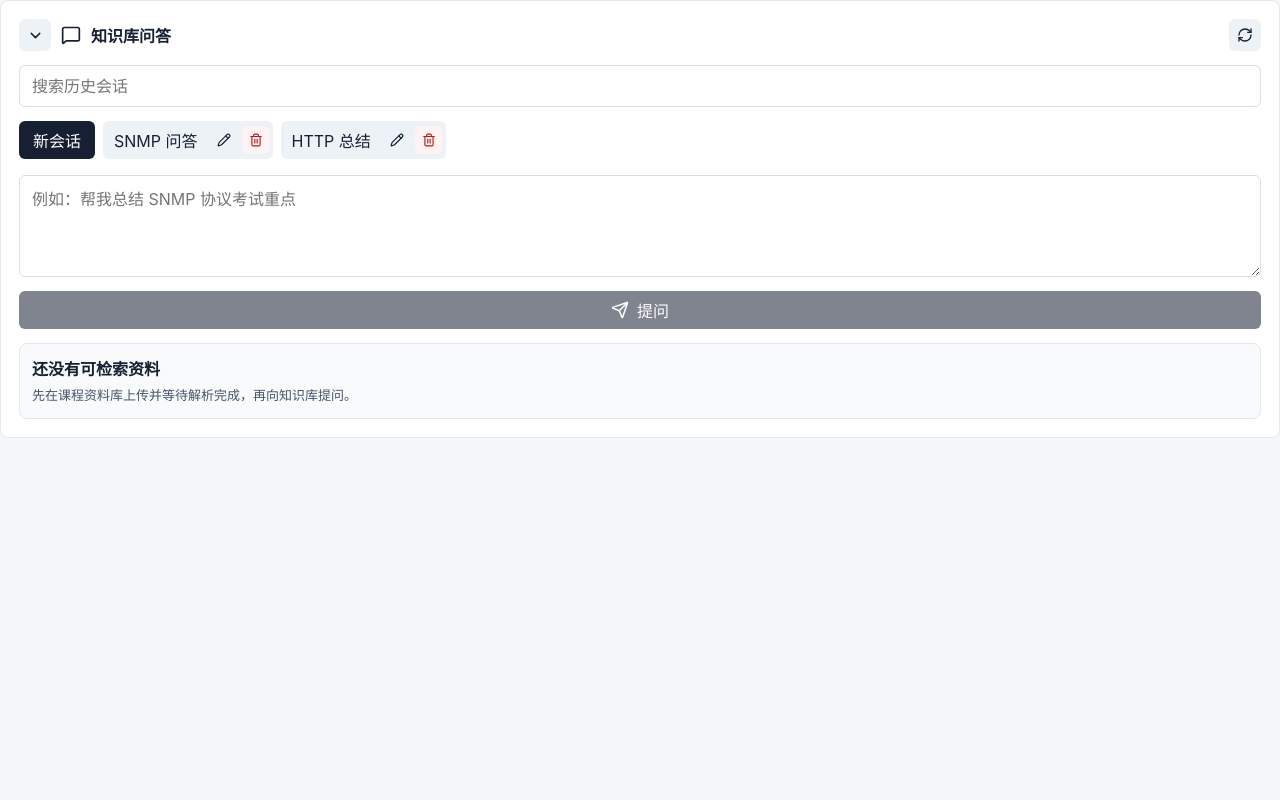
Scenario: ChatPanel › searches, renames, and deletes chat sessions with readable Chinese controls
In the field with placeholder "搜索历史会话": (640,86) [19,65,1261,107], type "SNMP"
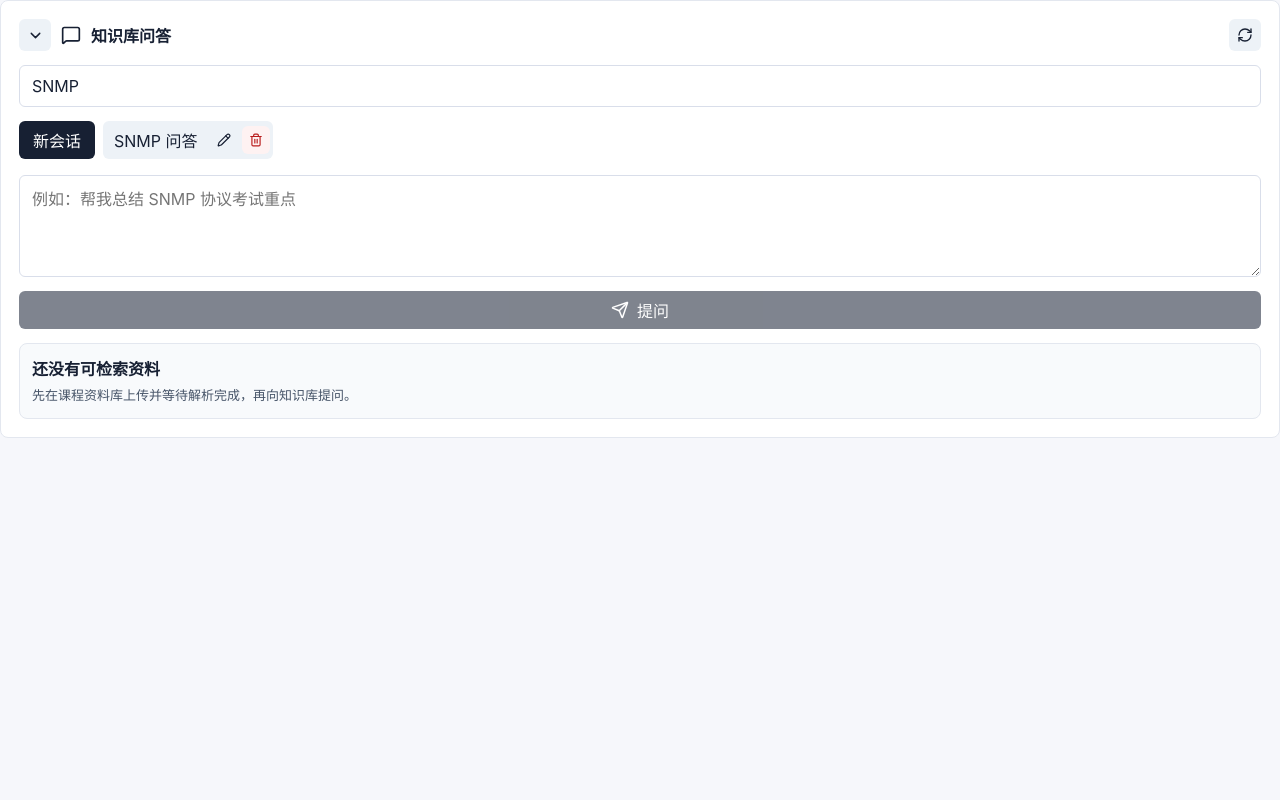
Expected: the text "SNMP 问答" is shown, [106,124,206,156]
Expected: the text "HTTP 总结" is gone
Click the button titled "重命名会话": (224,140) [210,126,238,154]
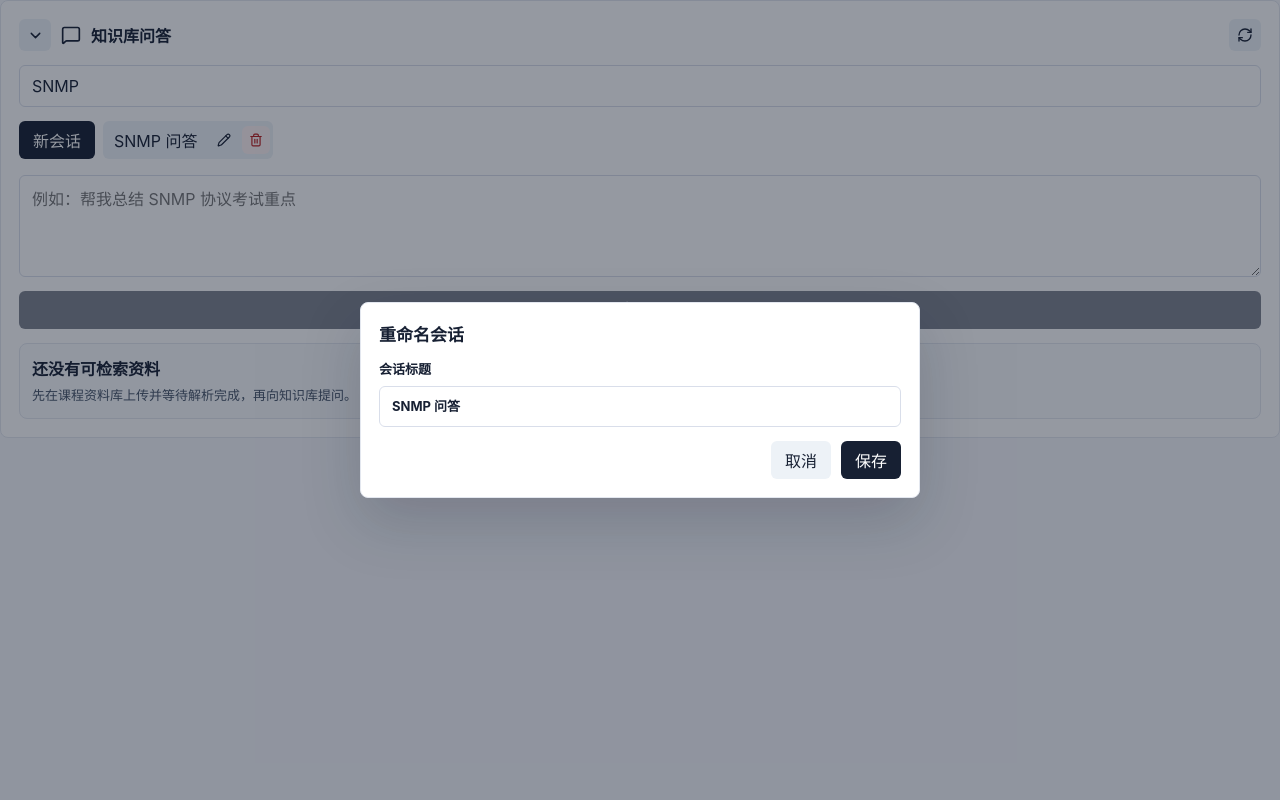
Expected: the text "重命名会话" is shown, [379,325,464,345]
Replace the text in the field with test id "session-title-input" with "期末复习": (640,406) [379,386,901,427]
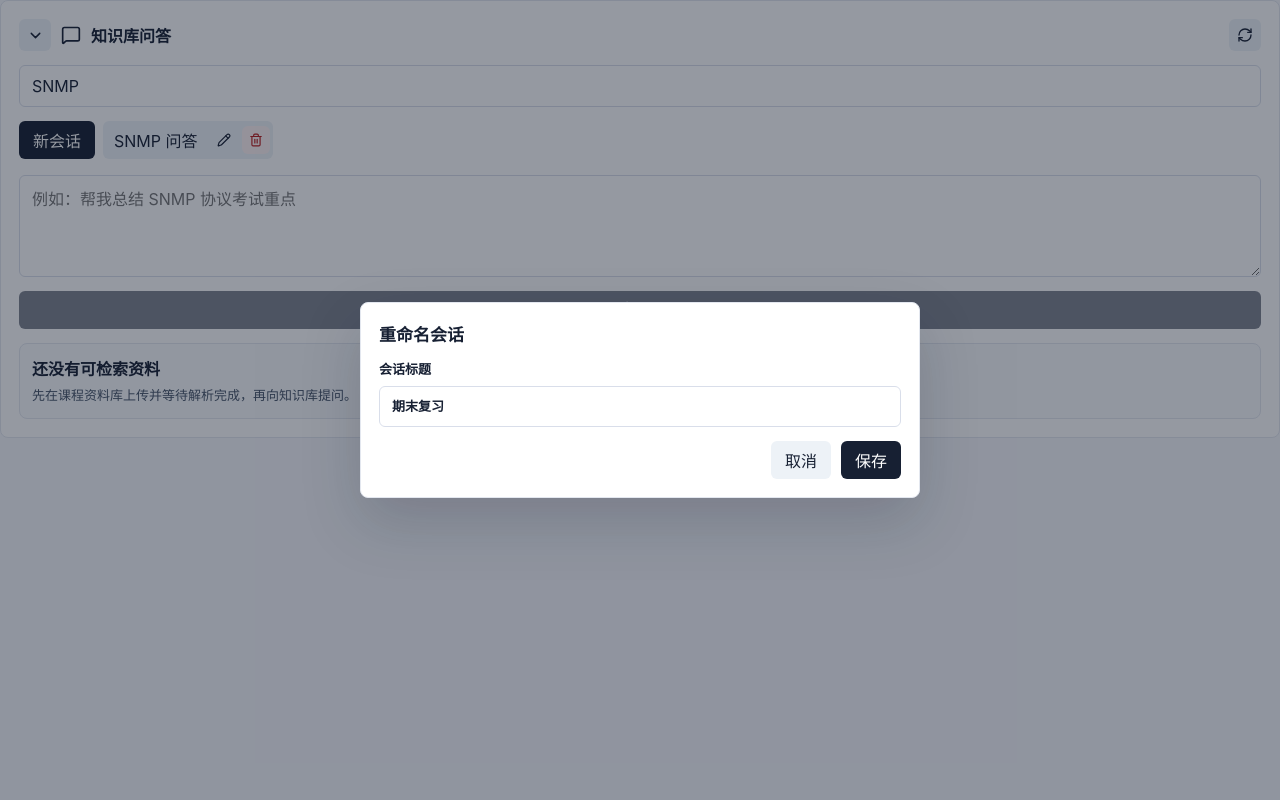
Click the button with test id "modal-confirm": (871,460) [841,441,901,479]
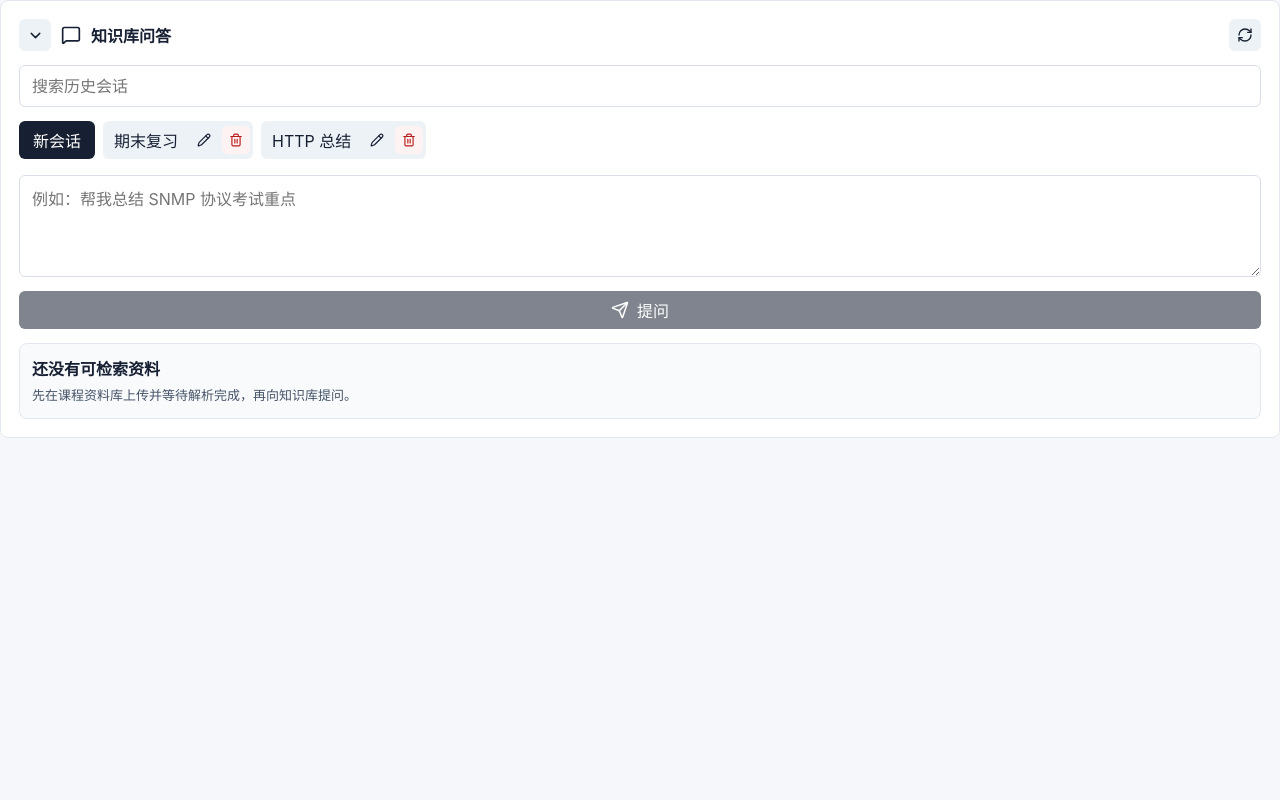
Expected: the text "期末复习" is shown, [106,124,186,156]
Click the 1st button titled "删除会话": (236,140) [222,126,250,154]
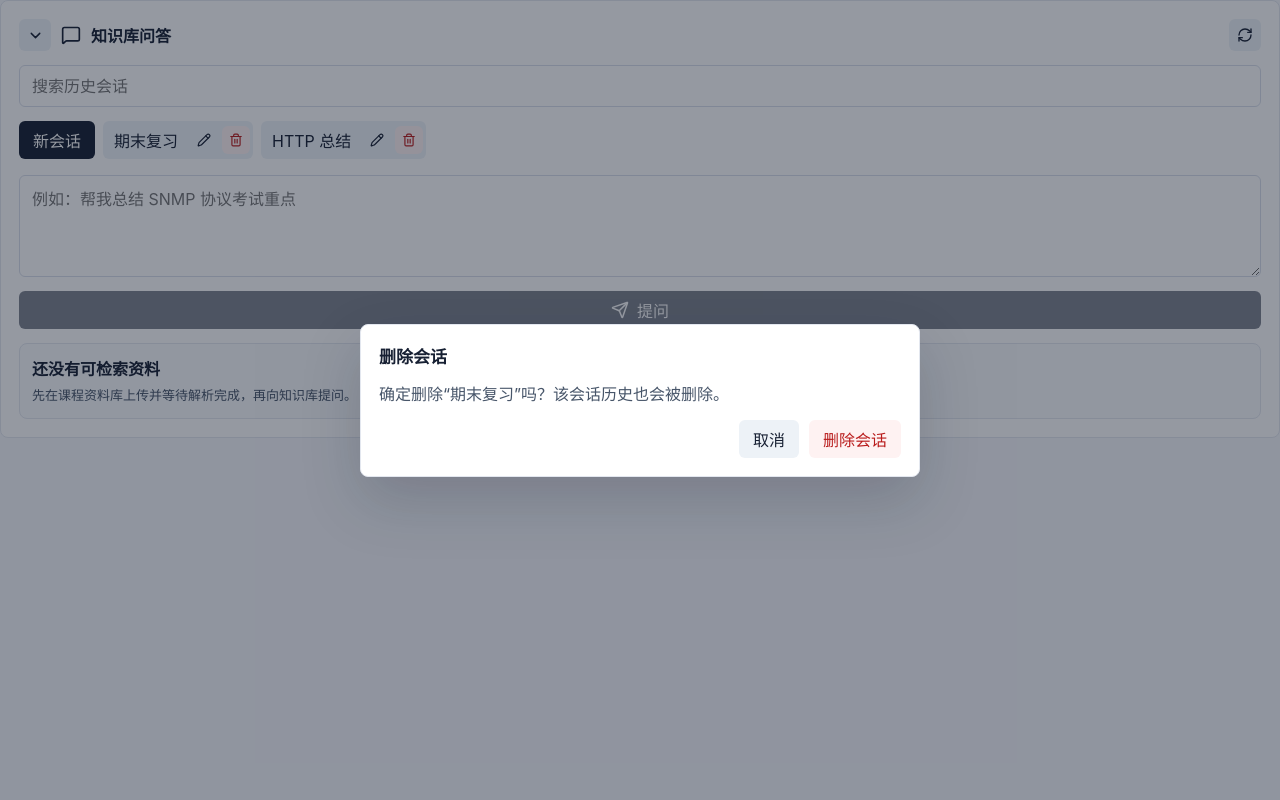
Expected: the text "该会话历史也会被删除" is shown, [379,384,729,404]
Click the button with test id "modal-confirm": (855,438) [809,420,901,458]
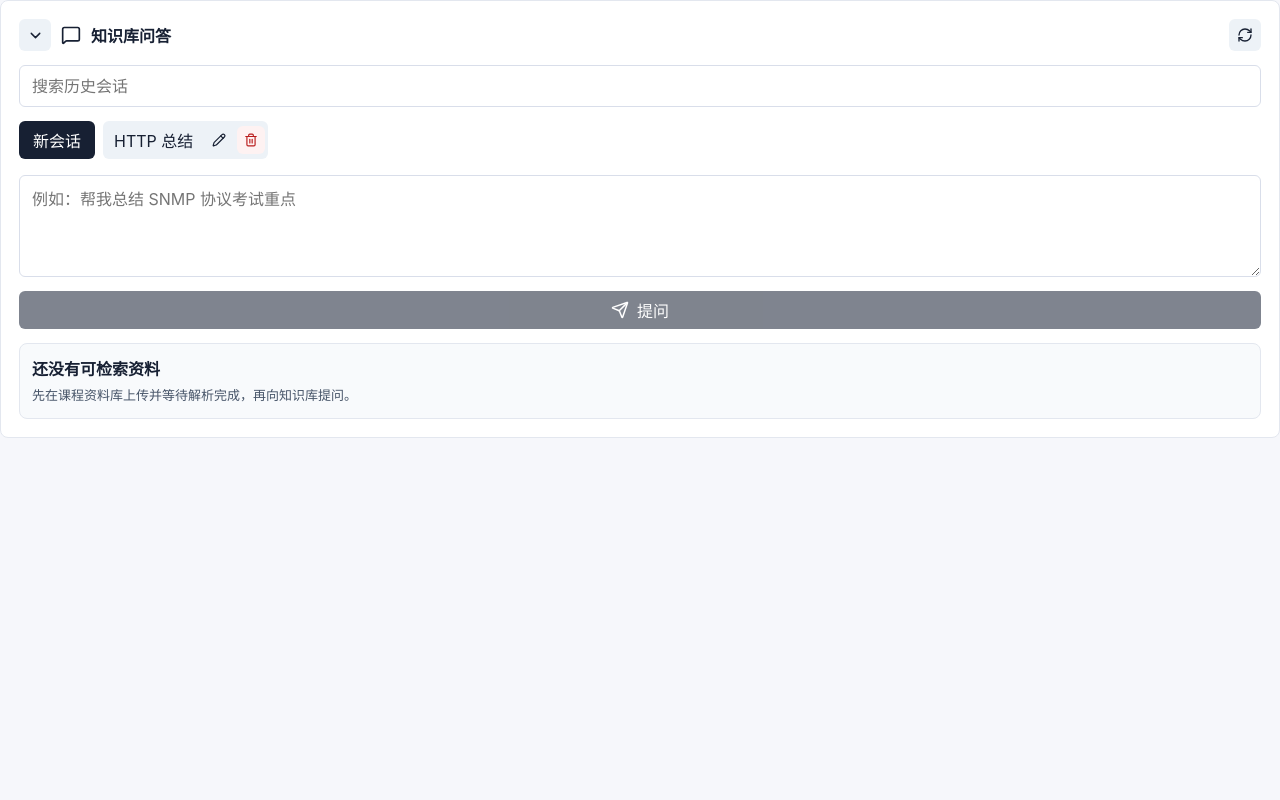
Expected: the text "期末复习" is gone
